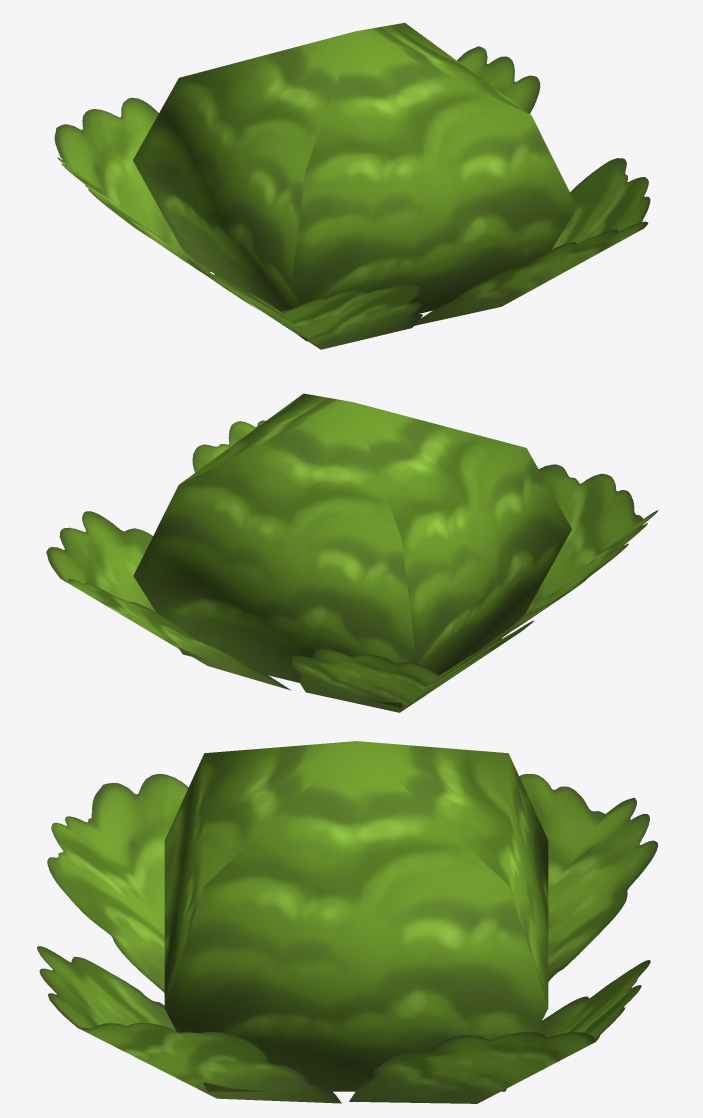
File: lettuce.FBX
The picture shows the model from 3 angles, top to bottom: view 1: azimuth 30°, elevation 25°; view 2: azimuth 150°, elevation 25°; view 3: azimuth 270°, elevation 25°; orthographic projection. The views are drawn at different scales.
Parts seen in each view (by area): view 1: lettuce; view 2: lettuce; view 3: lettuce.
Part boxes in pixels (<box>): lettuce: <box>54,22,650,349</box>; lettuce: <box>46,393,658,712</box>; lettuce: <box>37,741,657,1103</box>.
Size of the model in its own units: 207 by 103 by 206.
1 material, 1 textured.
